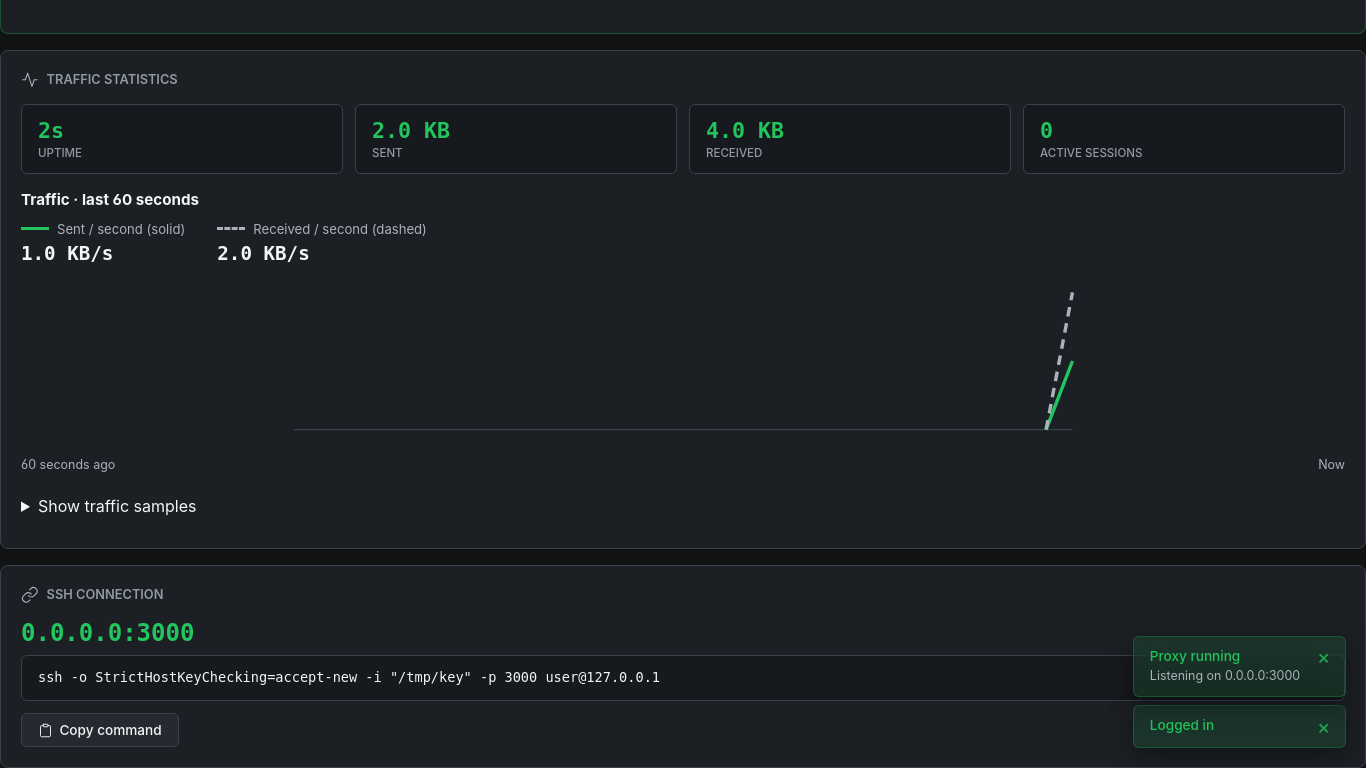
Test: shows shared live rates, a dual-line accessible trend and exact textual samples
(page scrolled)
Expected: the text "1.0 KB/s" is shown, [21,242,113,265]
Expected: the text "2.0 KB/s" is shown, [217,242,310,265]
Click the heading "Show traffic samples".
click(117, 506)  # box [38,496,196,516]
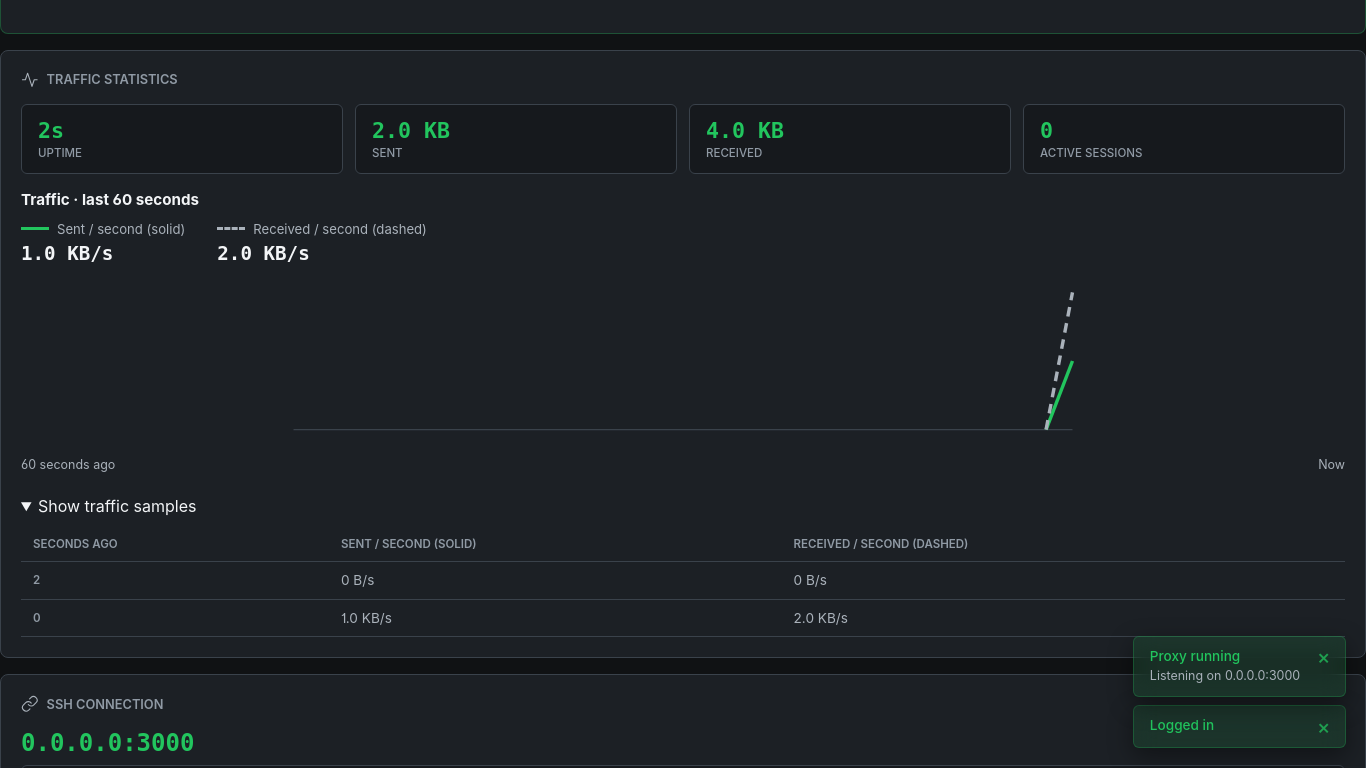
Now the table named "Traffic · last 60 seconds" is shown, box [21,528,1345,637]
